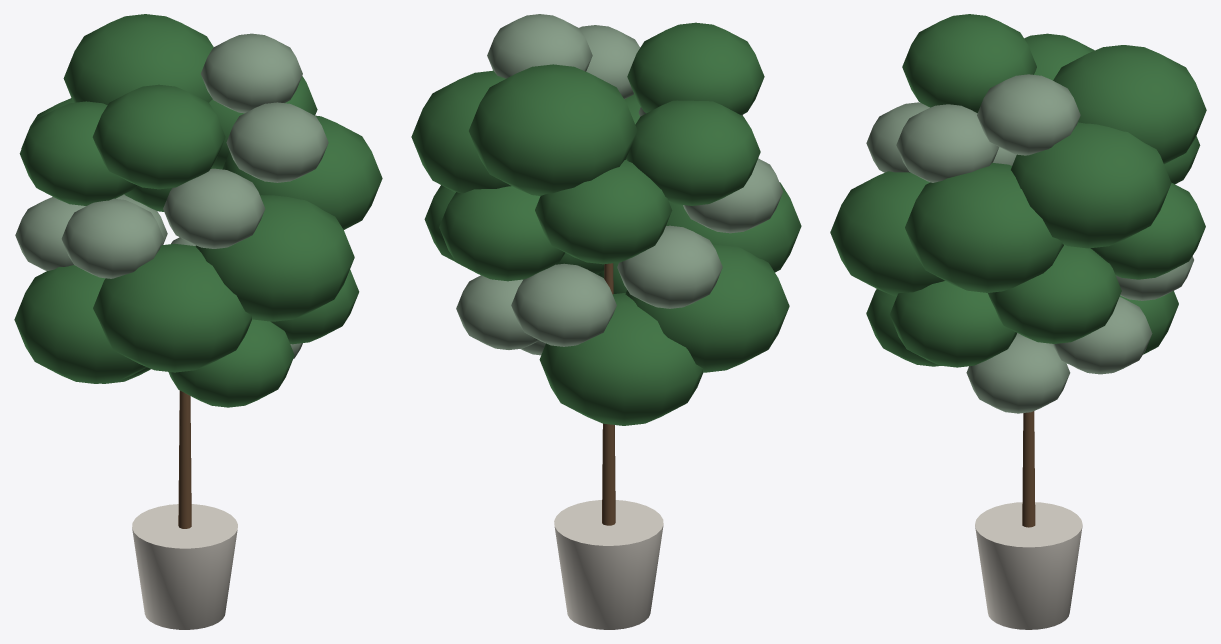
Rendered from plante-howea-ikea.glb.
3 views of the same model, side by side, from view 1: azimuth 30°, elevation 25°; view 2: azimuth 150°, elevation 25°; view 3: azimuth 270°, elevation 25° (orthographic). The views are drawn at different scales.
Visible parts, largest first — view 1: produit; view 2: produit; view 3: produit.
Part boxes in pixels (x1,y1,x2,y2): produit: [14, 14, 382, 629]; produit: [411, 14, 801, 629]; produit: [830, 14, 1206, 629].
Size of the model in its own units: 0.8558 by 1.39 by 0.8376.
